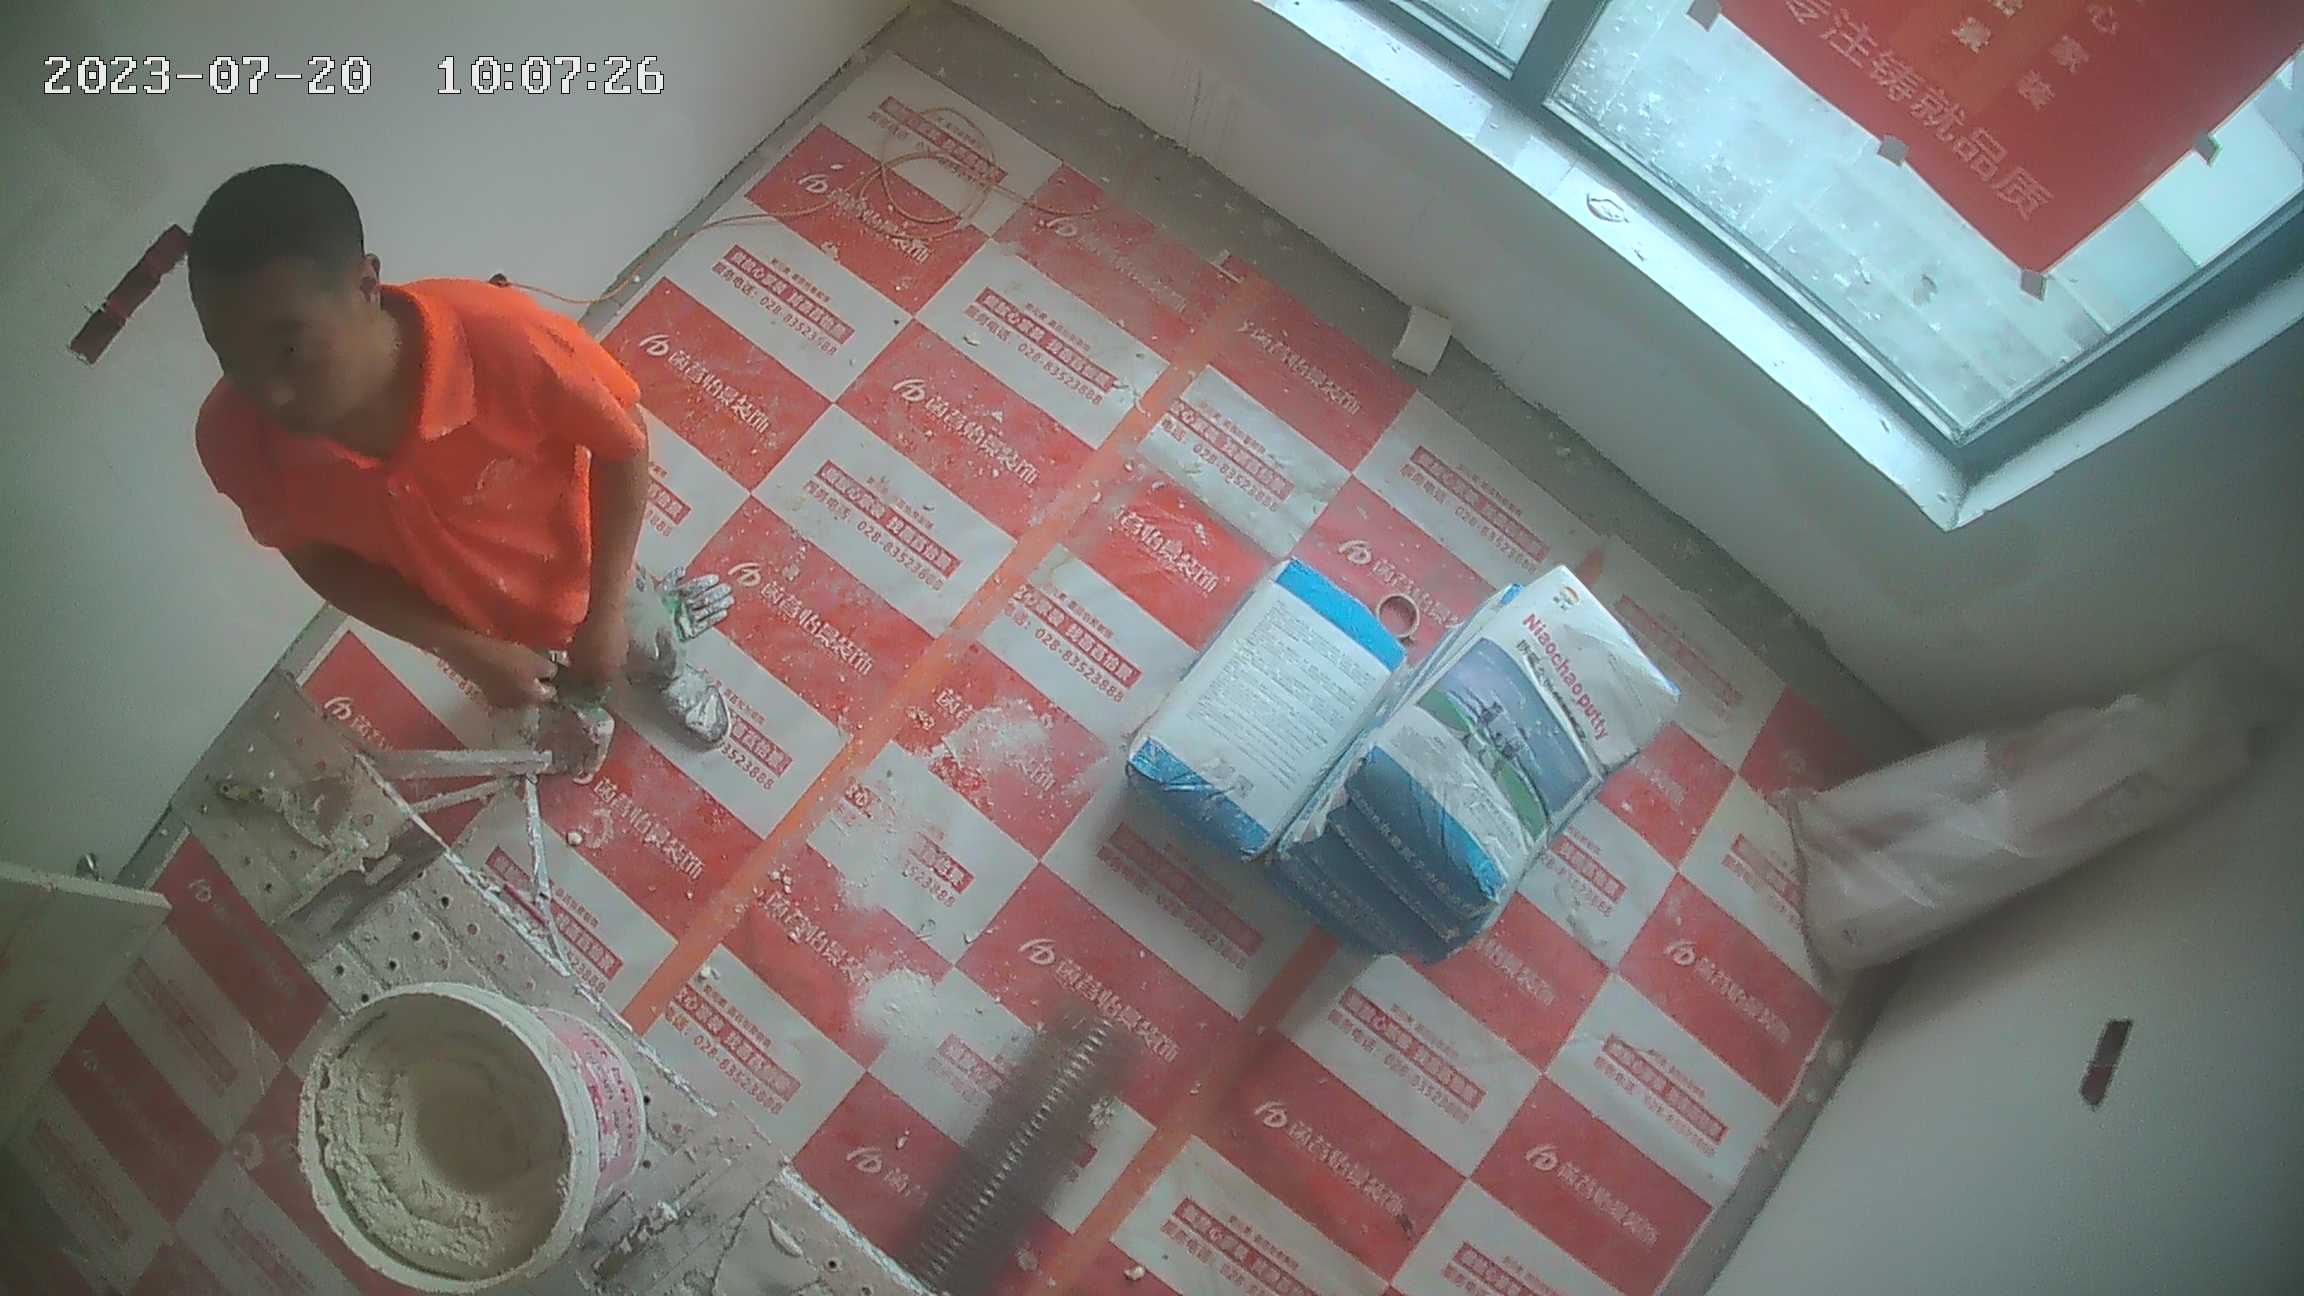people: (193, 164, 734, 773)
window: (1345, 5, 2304, 464)
